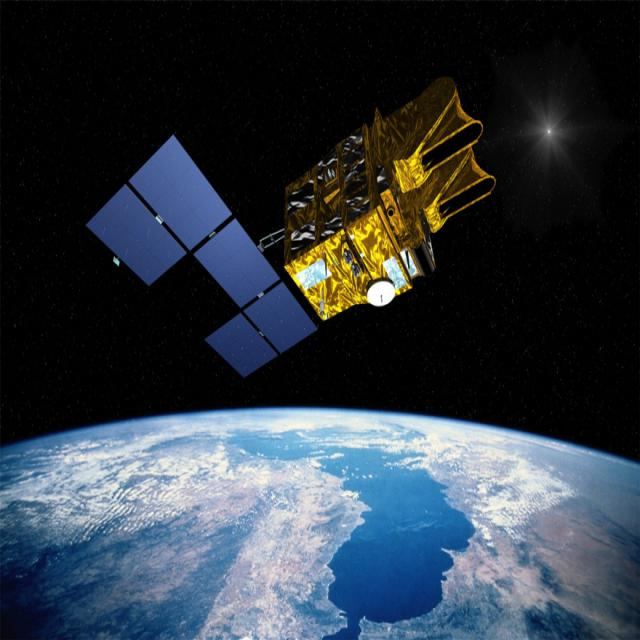satellite: (83, 54, 501, 404)
